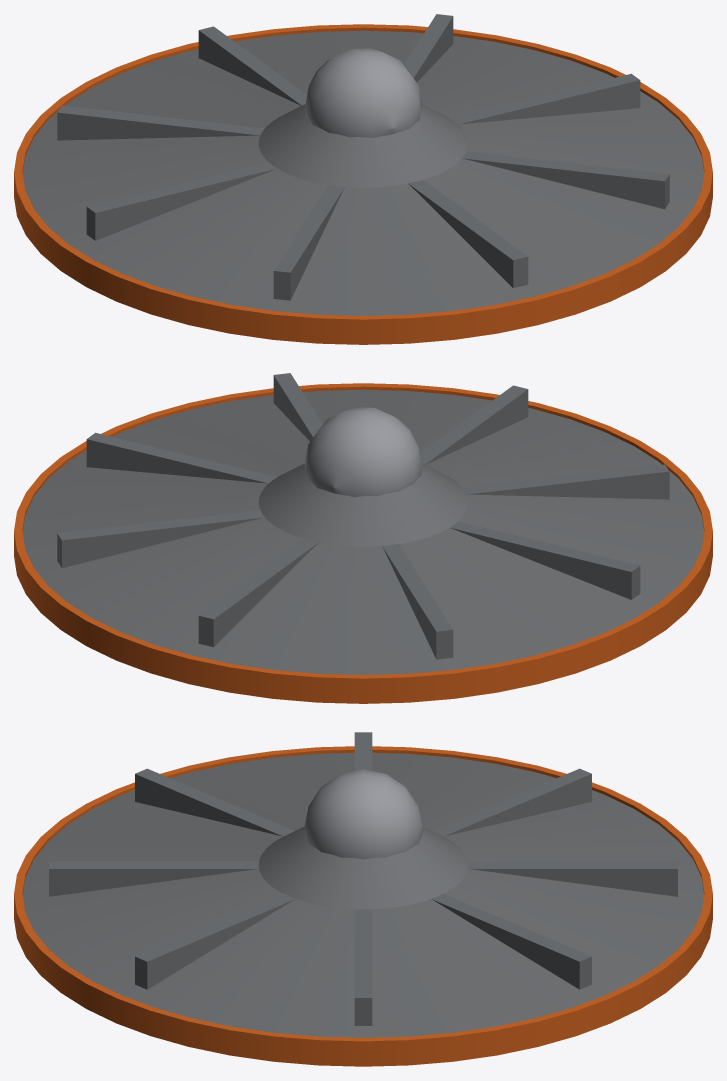
The model's file is po4_foot.obj.
3 views of the same model, one above another, from view 1: azimuth 30°, elevation 25°; view 2: azimuth 150°, elevation 25°; view 3: azimuth 270°, elevation 25° (orthographic).
Visible parts, largest first — view 1: po4_foot; view 2: po4_foot; view 3: po4_foot.
Part boxes in pixels (x1,y1,x2,y2): po4_foot: (14,14,712,344); po4_foot: (14,373,712,703); po4_foot: (14,732,712,1066).
Size of the model in its own units: 2 by 0.485 by 2.
